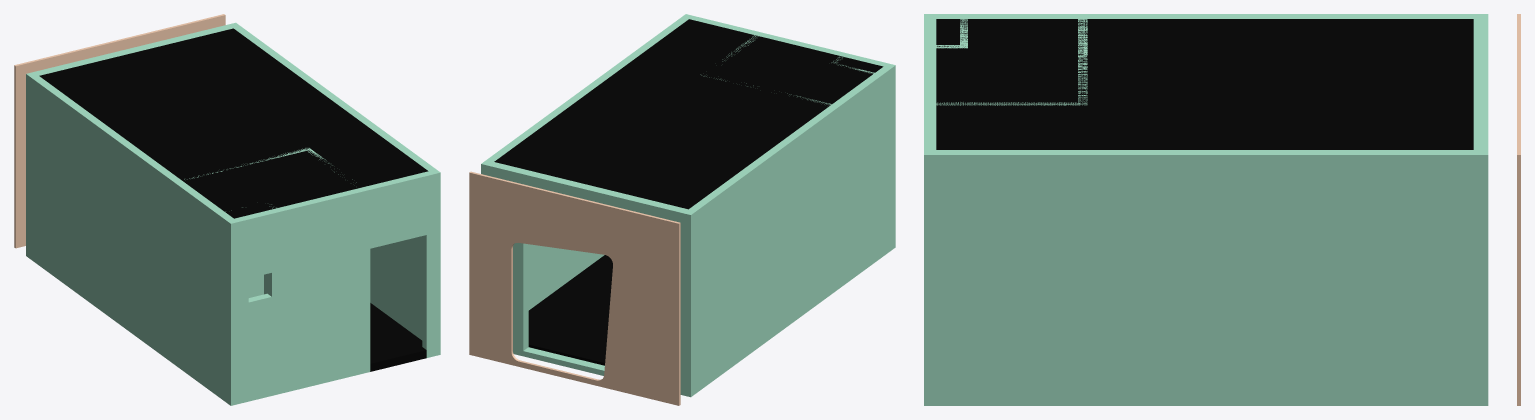
The model's file is oneBR-beenest.gltf.
3 renders of one model, left to right at view 1: azimuth 30°, elevation 25°; view 2: azimuth 150°, elevation 25°; view 3: azimuth 270°, elevation 25°, orthographic. The views are drawn at different scales.
Size of the model in its own units: 4.1 by 3.4 by 7.33.
